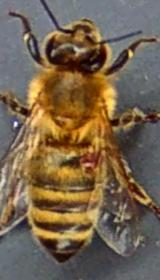varroa_mite: (76, 145, 114, 180)
